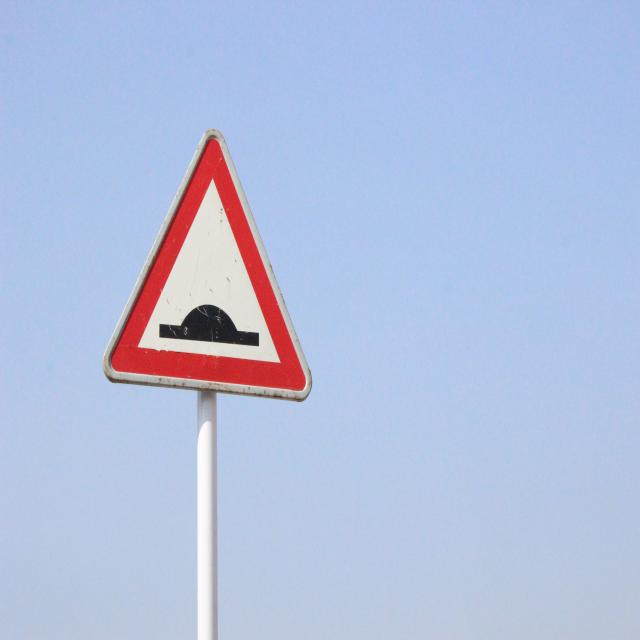Metal: (102, 129, 313, 404)
